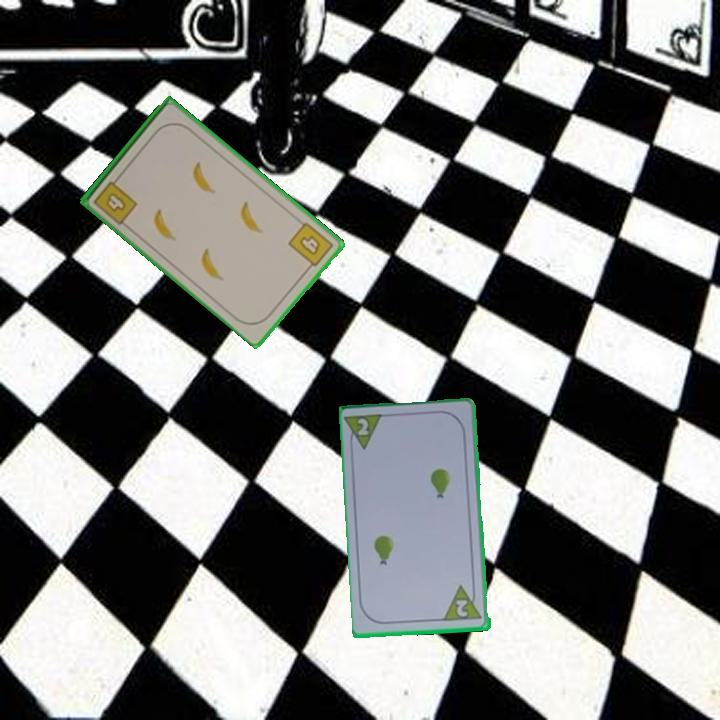2p: (442, 582, 485, 624), (354, 415, 372, 439)
4b: (285, 218, 336, 274), (90, 172, 141, 228)
